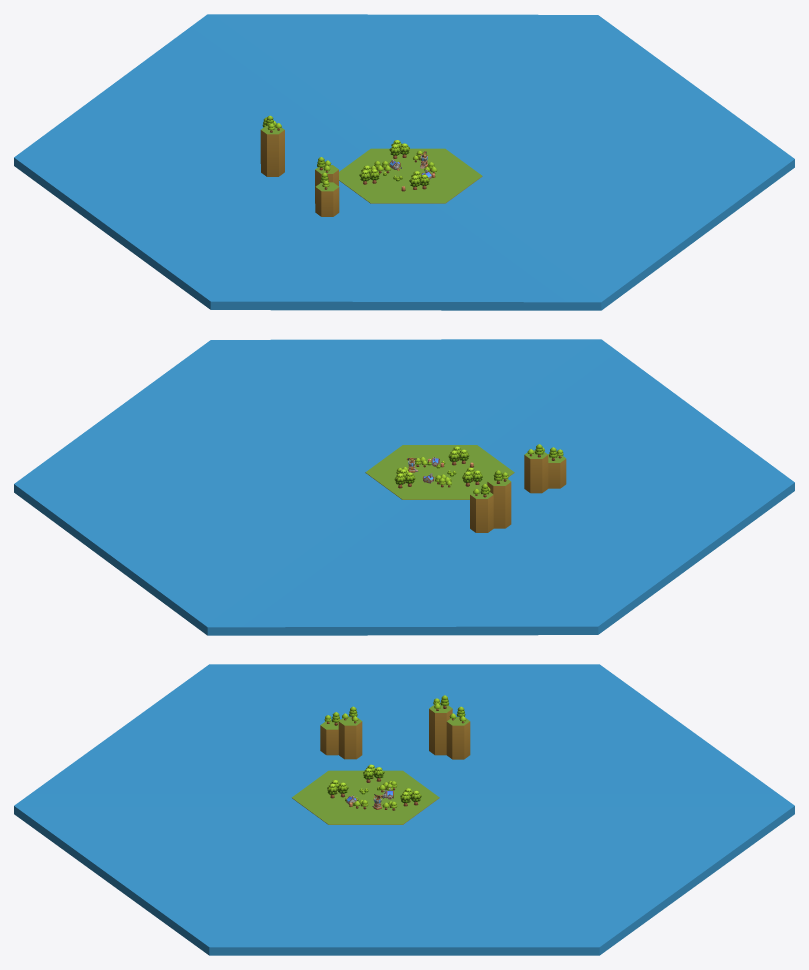
The model's file is world.glb.
The picture shows the model from 3 angles, top to bottom: view 1: azimuth 30°, elevation 25°; view 2: azimuth 150°, elevation 25°; view 3: azimuth 270°, elevation 25°; orthographic projection.
Visible parts, largest first — view 1: Circle.042, Circle.045, Circle.047, Circle.048; view 2: Circle.042, Circle.045, Circle.047, Circle.049, Circle.046, Circle.048; view 3: Circle.042, Circle.045, Circle.049, Circle.046, Circle.047, Circle.048.
Part boxes in pixels (box(x1,y1,x2,y2)): Circle.042: box(14, 14, 794, 310); Circle.045: box(339, 148, 482, 203); Circle.047: box(261, 125, 284, 176); Circle.048: box(315, 182, 339, 216); Circle.042: box(14, 339, 794, 635); Circle.045: box(365, 445, 514, 499); Circle.047: box(487, 477, 511, 528); Circle.049: box(524, 450, 548, 493); Circle.046: box(470, 490, 493, 532); Circle.048: box(548, 454, 566, 488); Circle.042: box(14, 664, 794, 955); Circle.045: box(292, 770, 439, 824); Circle.049: box(338, 717, 362, 759); Circle.046: box(446, 717, 470, 759); Circle.047: box(429, 704, 452, 755); Circle.048: box(320, 721, 338, 755).
Size of the model in its own units: 71.4 by 9.8 by 83.33.
12 materials, 12 textured.
